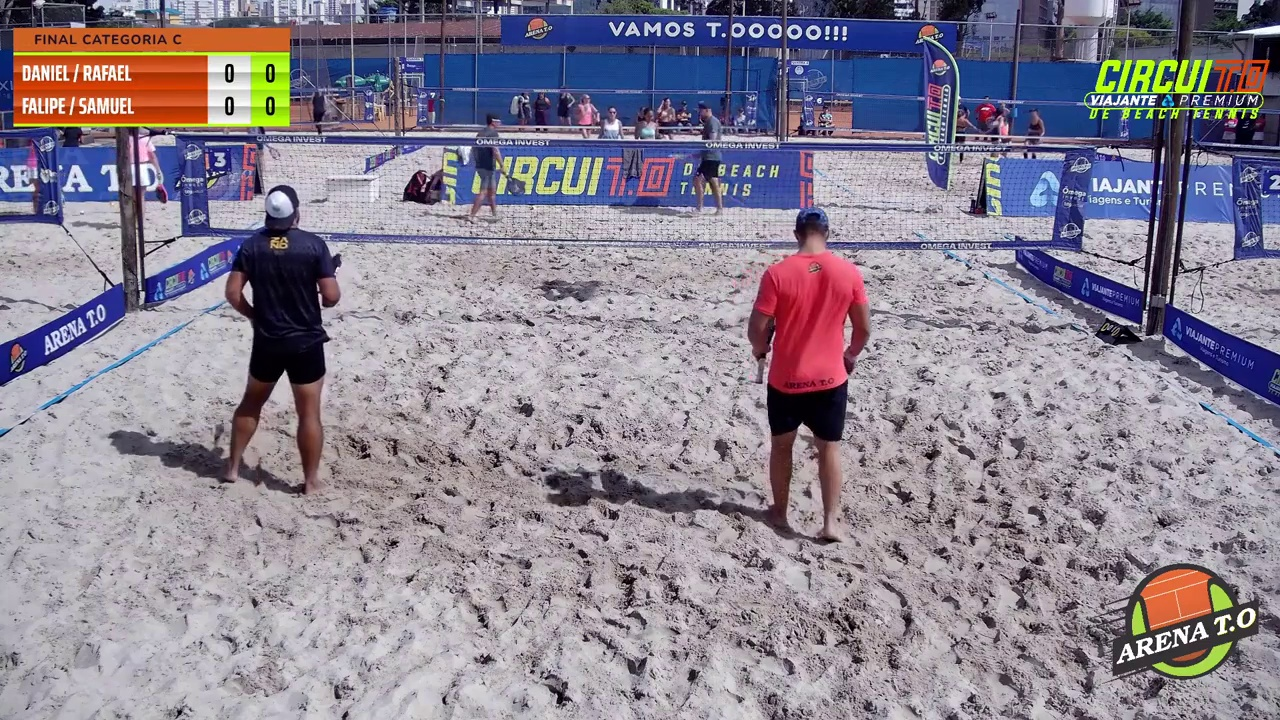court_line: (645, 0, 785, 409)
